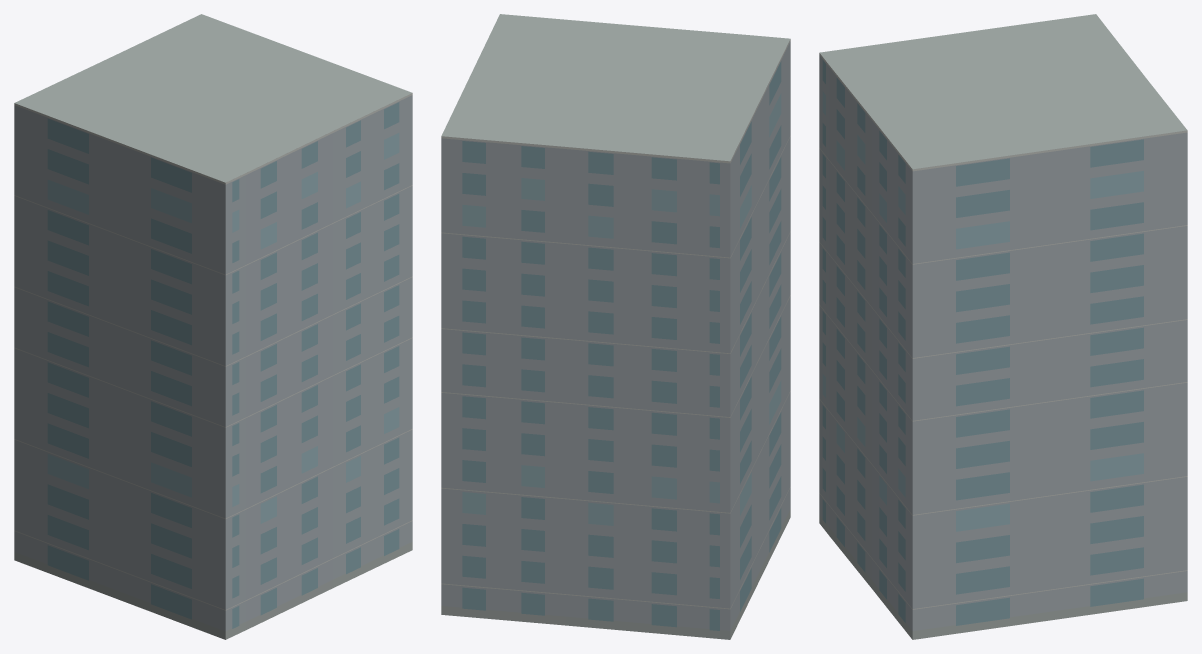
The model's file is residential-2f51b473-b3e0-4757-9d32-9d36834fb95c.glb.
3 renders of one model, left to right at view 1: azimuth 30°, elevation 25°; view 2: azimuth 150°, elevation 25°; view 3: azimuth 270°, elevation 25°, orthographic. The views are drawn at different scales.
Parts seen in each view (by area): view 1: residential-2f51b473-b3e0-4757-9d32-9d36834fb95c.tmp; view 2: residential-2f51b473-b3e0-4757-9d32-9d36834fb95c.tmp; view 3: residential-2f51b473-b3e0-4757-9d32-9d36834fb95c.tmp.
Part boxes in pixels (<box>): residential-2f51b473-b3e0-4757-9d32-9d36834fb95c.tmp: <box>14,14,412,639</box>; residential-2f51b473-b3e0-4757-9d32-9d36834fb95c.tmp: <box>441,14,790,639</box>; residential-2f51b473-b3e0-4757-9d32-9d36834fb95c.tmp: <box>819,14,1187,639</box>.
Bounding box in the file's own units: 38.25 × 54 × 38.32.
